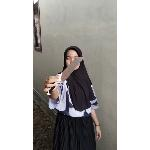Pisau: (44, 57, 86, 95)
